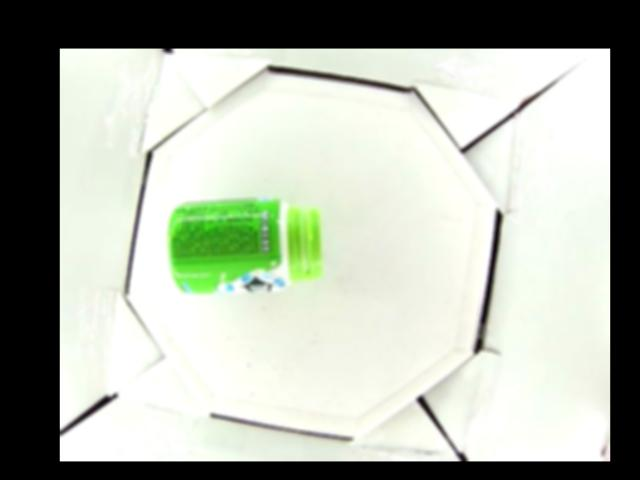Bottle: (166, 196, 321, 295)
